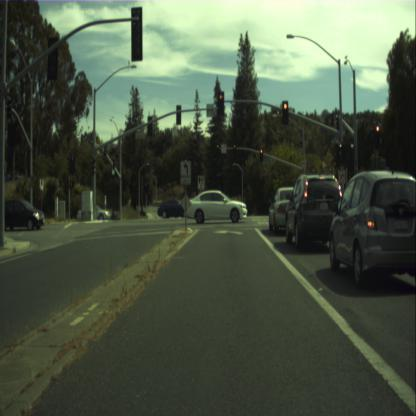Red: (282, 101, 288, 125), (374, 124, 379, 146), (216, 143, 219, 155), (233, 143, 236, 154), (260, 148, 262, 160)
RedLeft: (218, 91, 224, 115)
